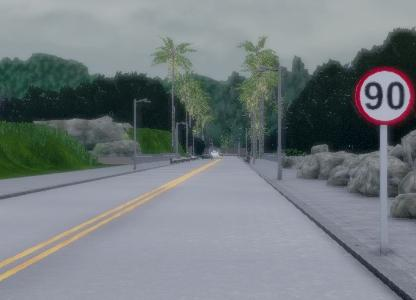Speed_90: (352, 66, 414, 128)
